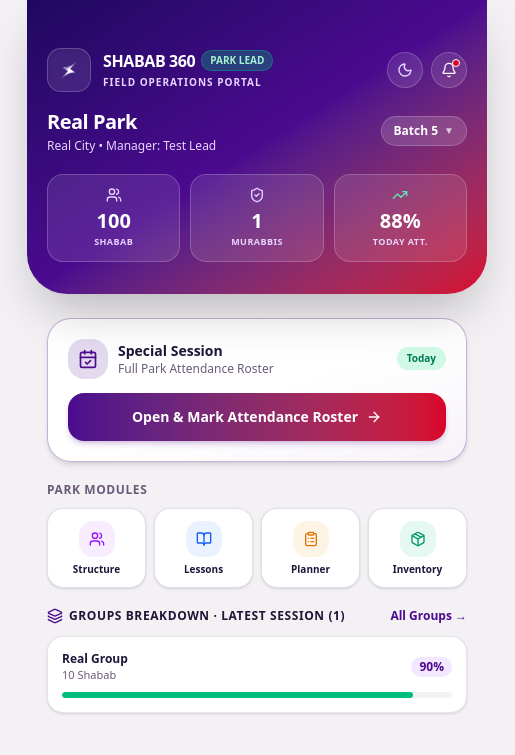
MobileParkDashboard › never routes Structure, Lessons or Planner anywhere and says so
Click the button with aria-label "Structure (not available yet)" at (96, 548), box [47, 508, 146, 588]
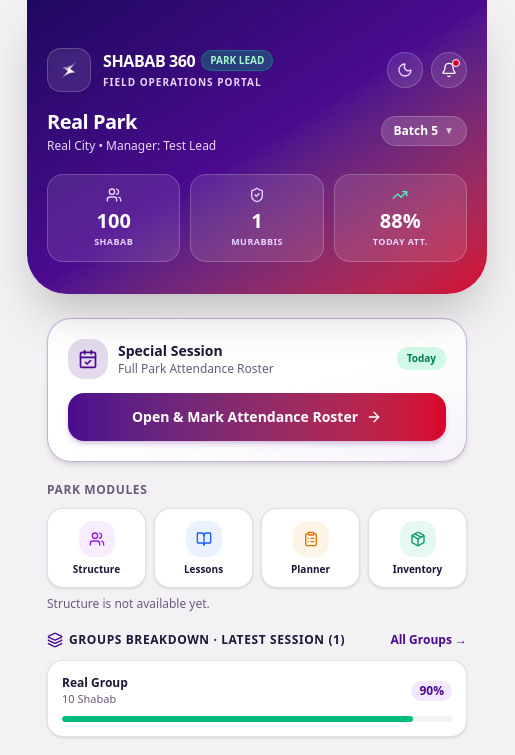
Check: the text "Structure is not available yet." is shown, box [47, 595, 210, 612]
Click the button with aria-label "Lessons (not available yet)" at (204, 548), box [154, 508, 253, 588]
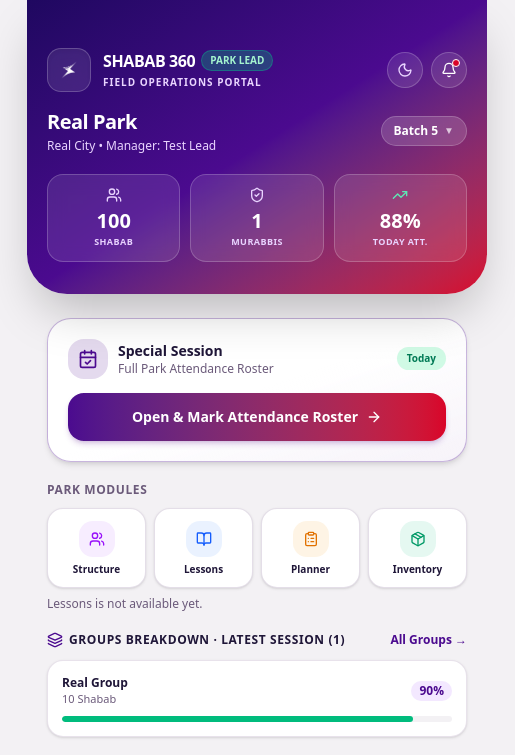
Check: the text "Lessons is not available yet." is shown, box [47, 595, 202, 612]
Click the button with aria-label "Planner (not available yet)" at (310, 548), box [261, 508, 360, 588]
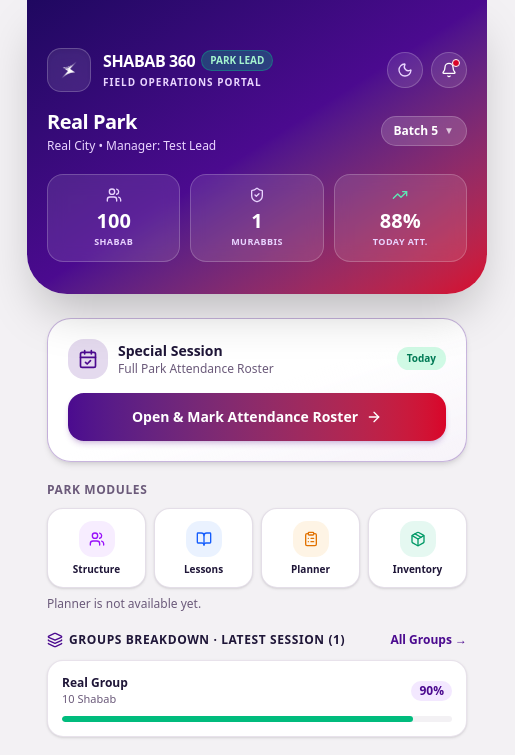
Check: the text "Planner is not available yet." is shown, box [47, 595, 201, 612]
